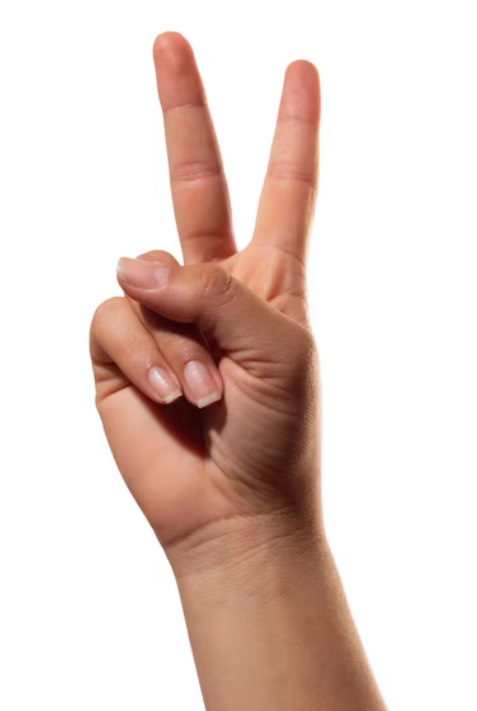peace: (90, 31, 323, 544)
